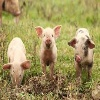heo: (66, 23, 97, 78), (32, 22, 61, 73), (3, 37, 31, 85)
